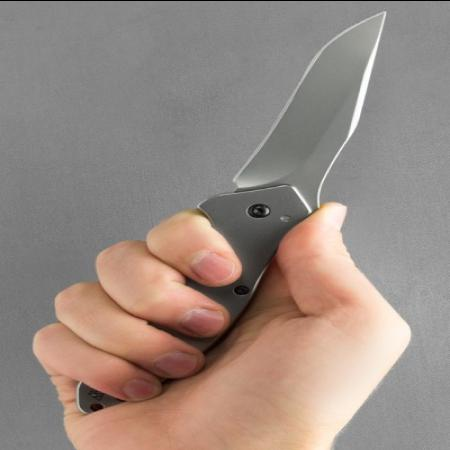long weapon: (110, 7, 405, 338)
